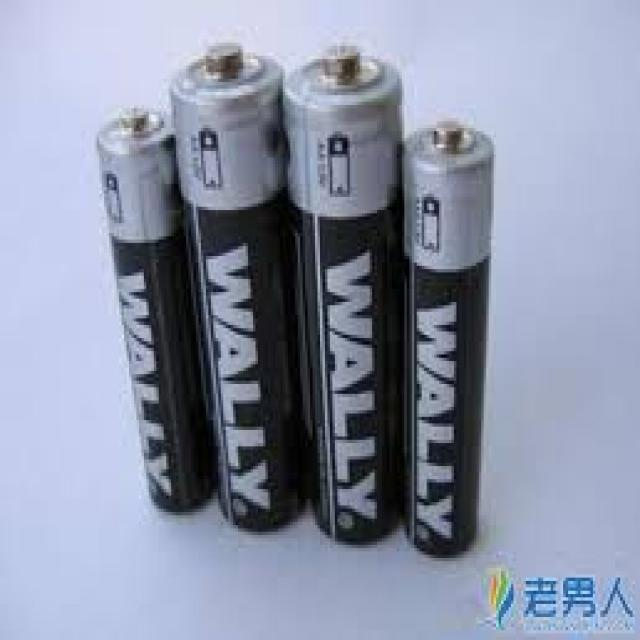non-organic waste: (159, 43, 311, 535), (282, 41, 405, 544), (92, 103, 226, 513), (401, 119, 498, 556)
